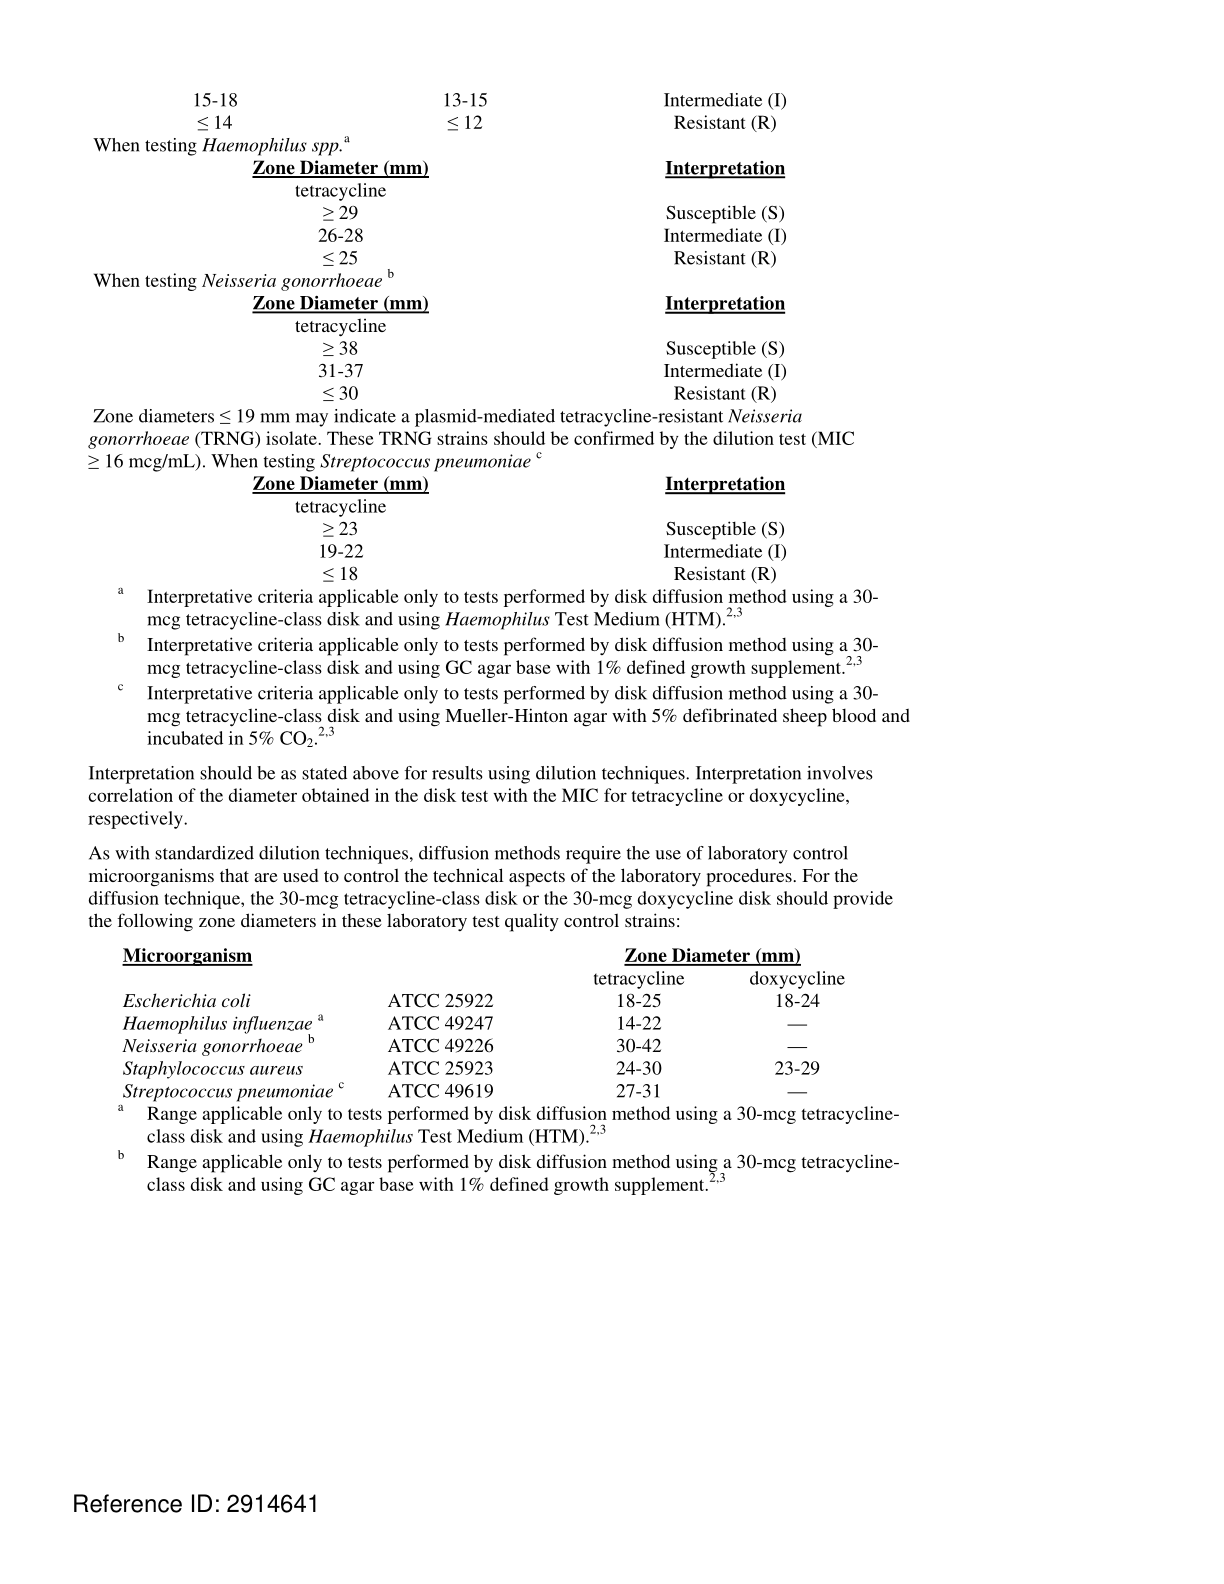nolines: (118, 944, 846, 1101), (247, 291, 789, 404), (247, 473, 789, 586), (246, 157, 793, 267), (190, 86, 795, 136)
